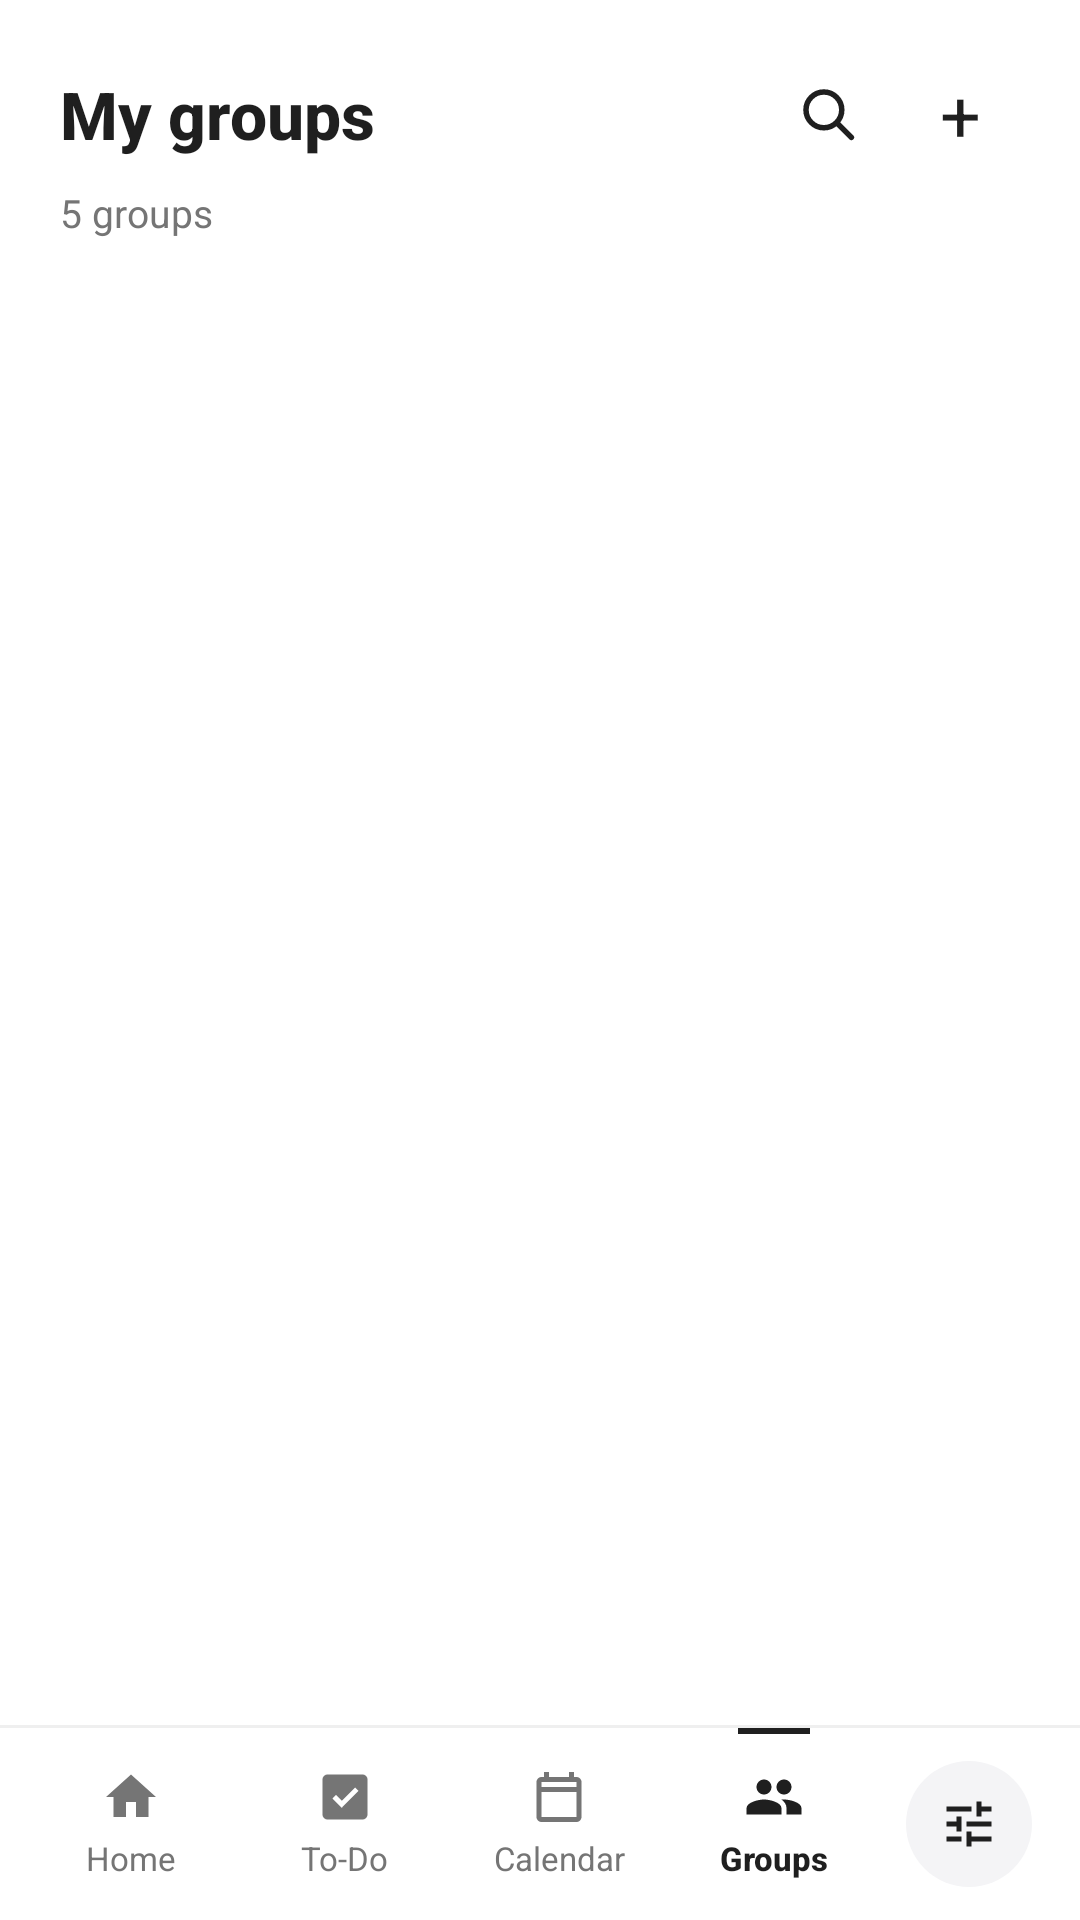

Named icons in this screenshot (1080px x 1920px) and their centers, point (x, y):
Cari Grup: point (829, 115)
Pengaturan: point (969, 1824)
